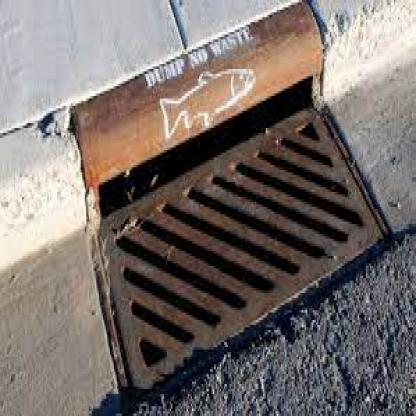open drainage-not overflowing-: (99, 93, 409, 397)
